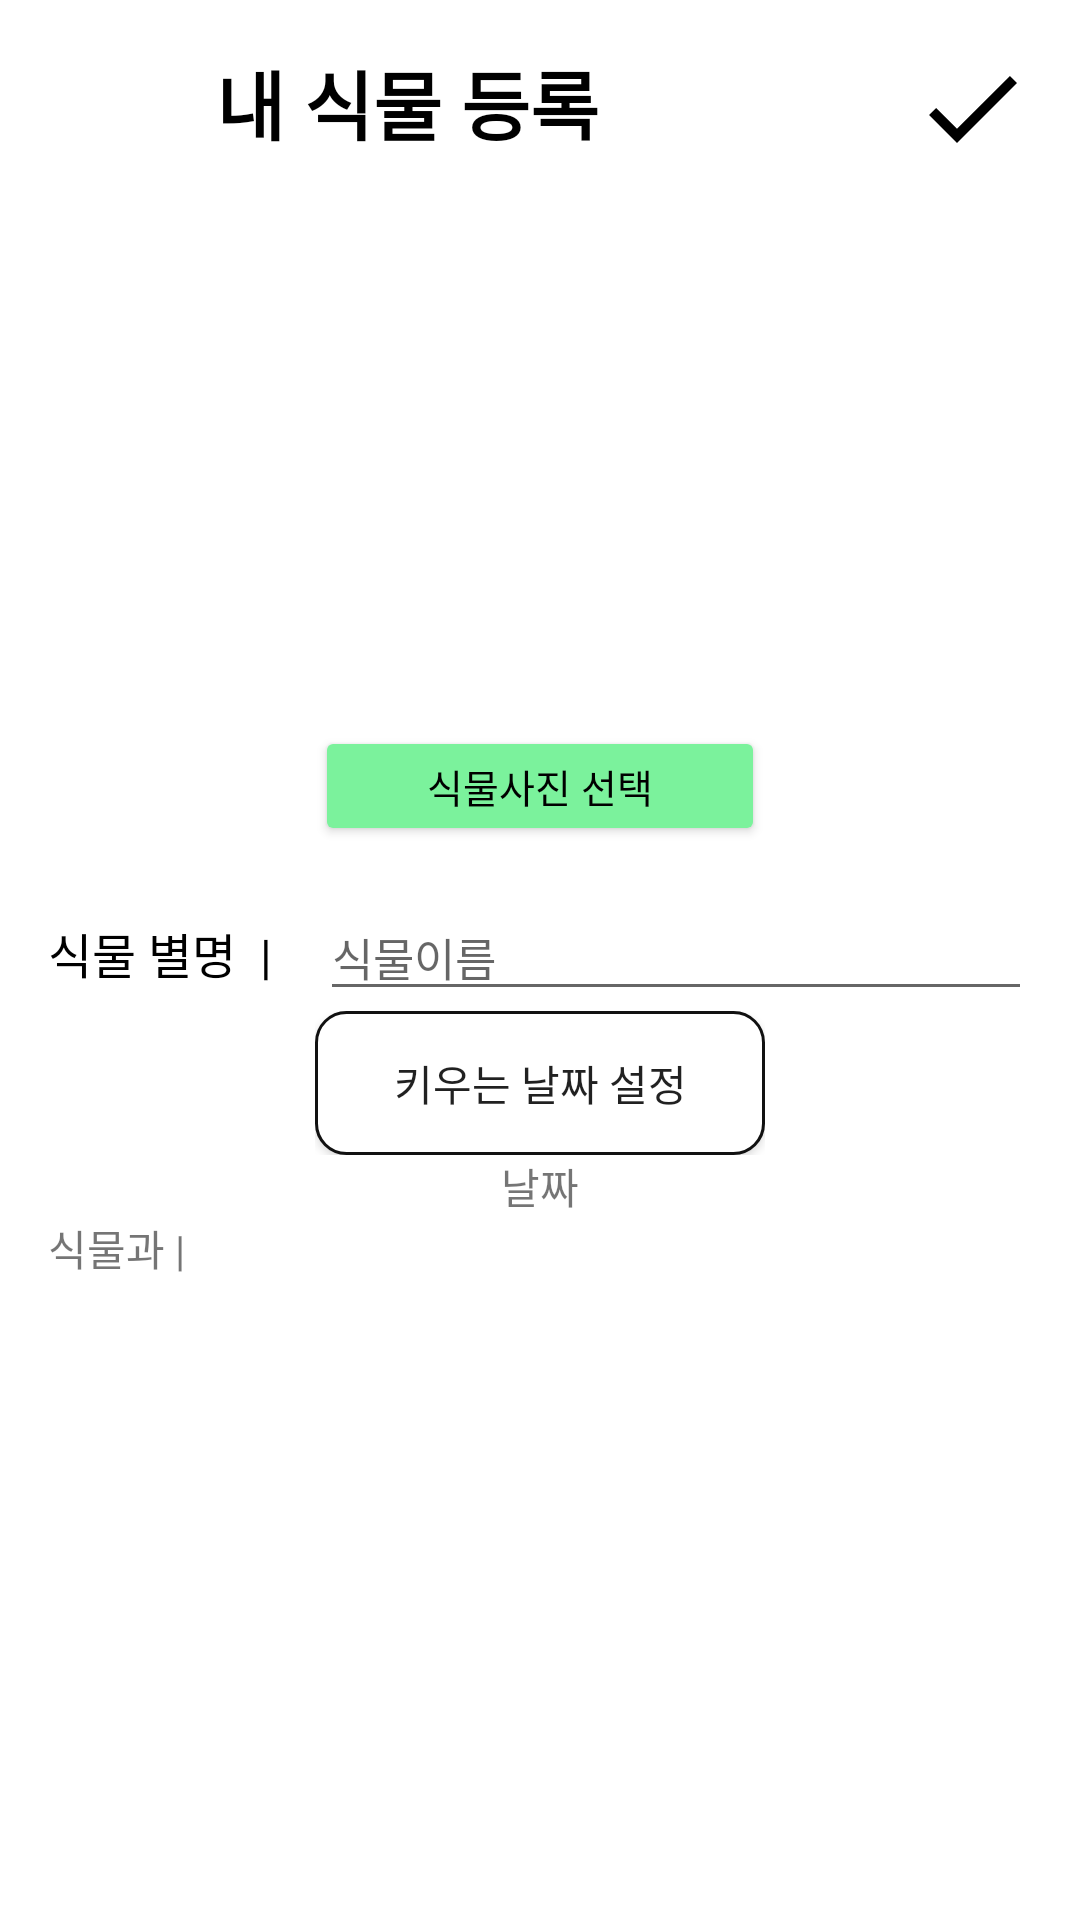

Named icons in this screenshot (1080px×1920px) and their centers, [x,y]:
check: [973,109]
